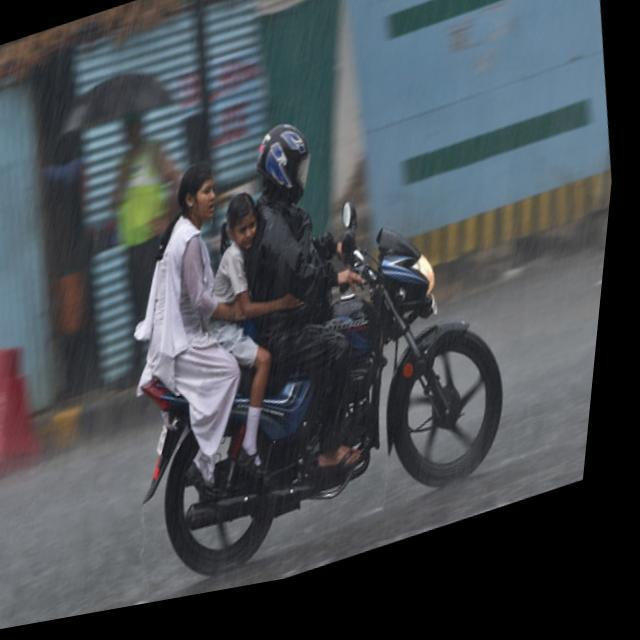Helmet: (255, 113, 316, 207)
Nonhelmet: (174, 165, 224, 227), (218, 191, 267, 250)
